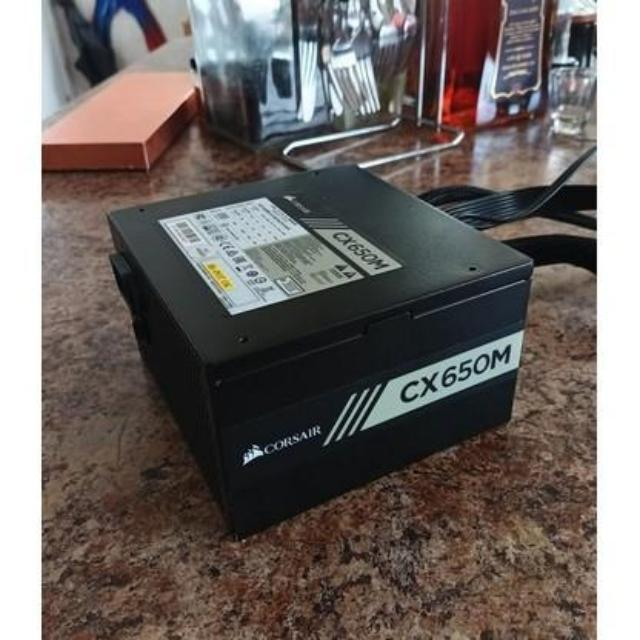PSU: (106, 157, 542, 531)
